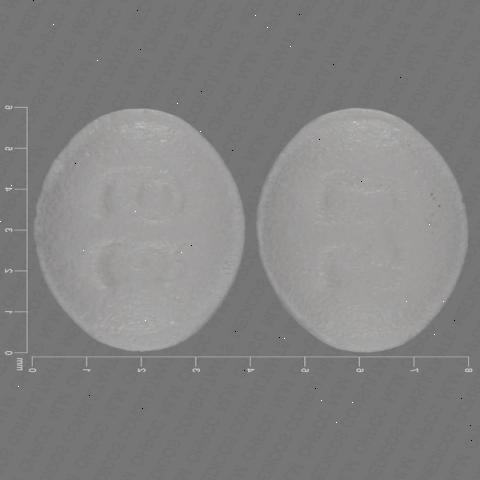Pill: (17, 79, 253, 372), (243, 79, 472, 379)
